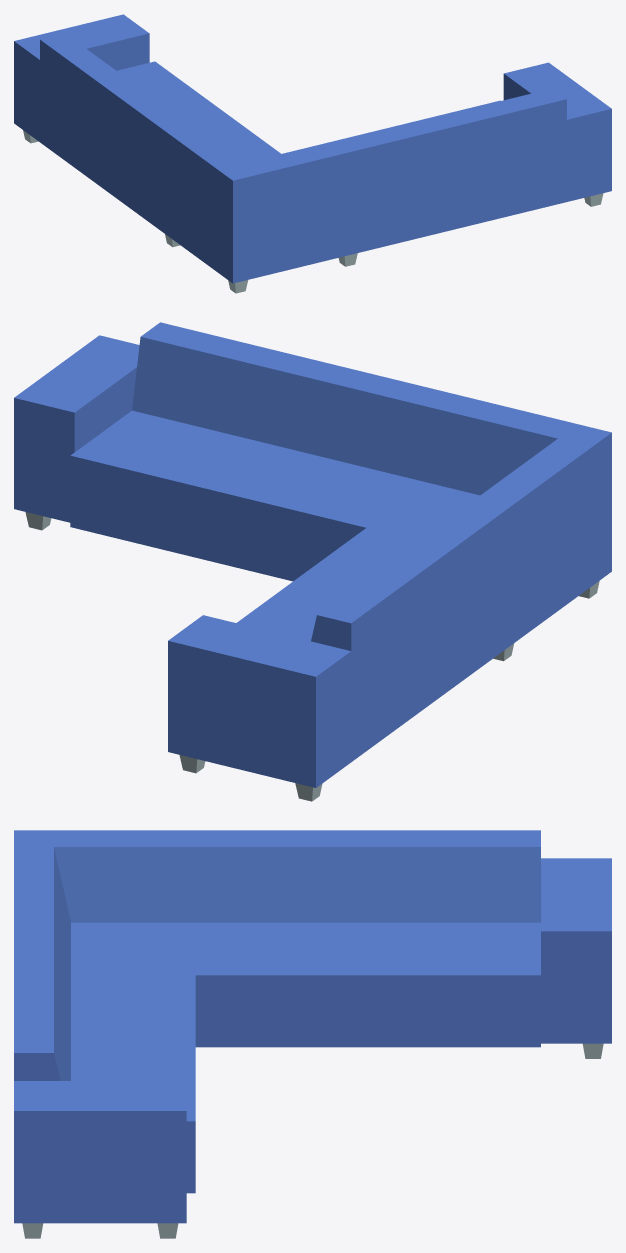
The model's file is loungeDesignSofaCorner.obj.
3 views of the same model, one above another, from view 1: azimuth 30°, elevation 25°; view 2: azimuth 150°, elevation 25°; view 3: azimuth 270°, elevation 25° (orthographic). The views are drawn at different scales.
Visible parts, largest first — view 1: loungeDesignSofaCorner; view 2: loungeDesignSofaCorner; view 3: loungeDesignSofaCorner.
Boxes of the visible parts, x1,y1,x2,y2 form: loungeDesignSofaCorner: (14, 14, 611, 293); loungeDesignSofaCorner: (14, 322, 611, 801); loungeDesignSofaCorner: (14, 830, 611, 1238).
Size of the model in its own units: 1.35 by 0.4 by 1.35.
